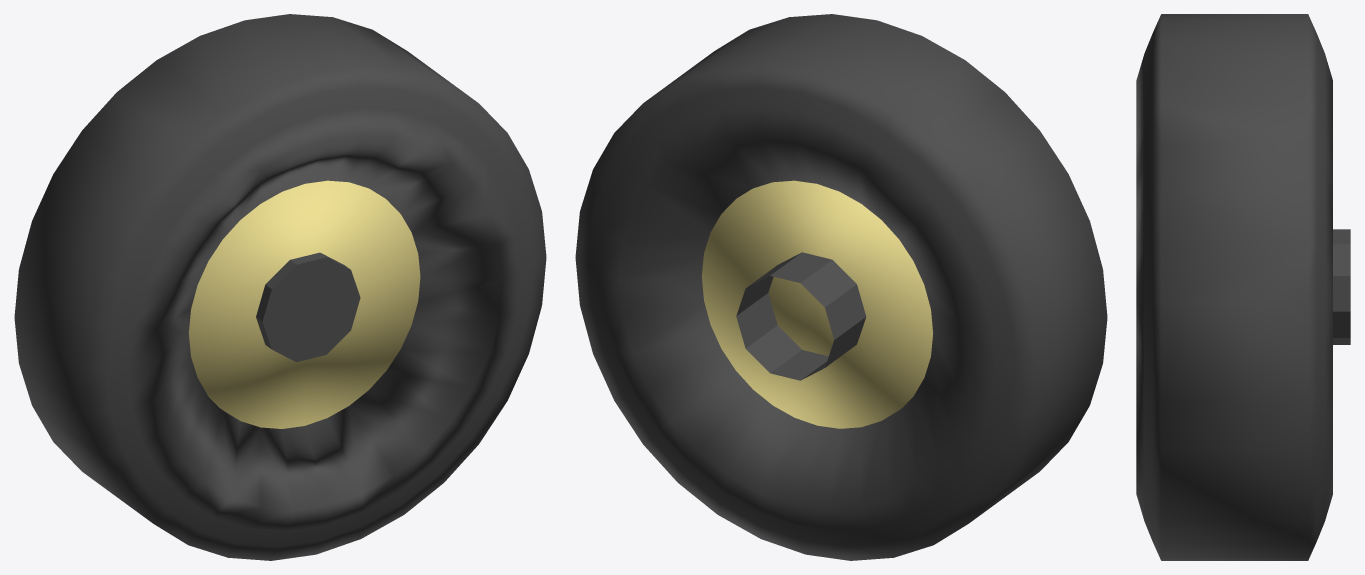
The model's file is pioneer2dx_wheel.dae.
The picture shows the model from 3 angles, left to right: view 1: azimuth 30°, elevation 25°; view 2: azimuth 150°, elevation 25°; view 3: azimuth 270°, elevation 25°; orthographic projection. The views are drawn at different scales.
Parts seen in each view (by area): view 1: Cylinder_002, Cylinder_001, hub; view 2: Cylinder_002, Cylinder_001, hub; view 3: Cylinder_002, hub.
Part boxes in pixels (x1,y1,x2,y2): Cylinder_002: (14,14,546,560); Cylinder_001: (188,180,420,428); hub: (256,252,360,362); Cylinder_002: (575,14,1107,560); Cylinder_001: (702,180,933,428); hub: (736,252,866,380); Cylinder_002: (1136,14,1332,560); hub: (1333,229,1350,344).
Bounding box in the file's own units: 0.224 × 0.0876 × 0.224.
